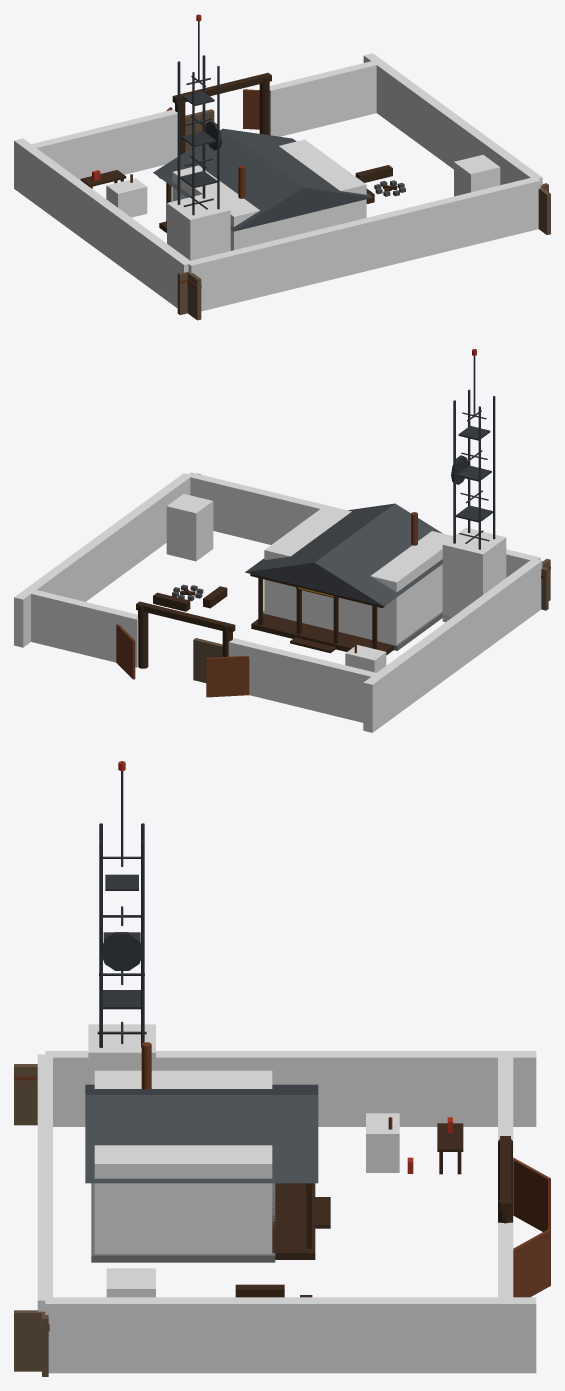
The model's file is relay_hub.glb.
3 renders of one model, top to bottom at view 1: azimuth 30°, elevation 25°; view 2: azimuth 150°, elevation 25°; view 3: azimuth 270°, elevation 25°, orthographic. The views are drawn at different scales.
Parts seen in each view (by area): view 1: COL_BOX_Fence_North, COL_BOX_Fence_West, Cabin_PitchedRoof, COL_BOX_Fence_East, COL_BOX_Fence_South_Left, COL_BOX_Cabin_Building, COL_BOX_Fence_South_Right, COL_BOX_RadioTower, COL_BOX_WaterTank, COL_BOX_Generator, Gate_OverheadLintel, Gate_Wing_Right (+11 smaller); view 2: COL_BOX_Cabin_Building, COL_BOX_Fence_West, Cabin_PitchedRoof, COL_BOX_Fence_East, COL_BOX_Fence_South_Left, COL_BOX_Fence_North, COL_BOX_Fence_South_Right, COL_BOX_RadioTower, COL_BOX_WaterTank, Cabin_PorchDeck, Gate_Wing_Left, Gate_OverheadLintel (+6 smaller); view 3: COL_BOX_Fence_East, COL_BOX_Cabin_Building, COL_BOX_Fence_West, Cabin_PitchedRoof, COL_BOX_Fence_North, Cabin_PorchDeck, COL_BOX_RadioTower, Gate_Wing_Left, Gate_Wing_Right, Cabin_Foundation, COL_BOX_Generator, Fence_East_-9 (+10 smaller).
Part boxes in pixels (x1,y1,x2,y2): COL_BOX_Fence_North: (186,176,540,311); COL_BOX_Fence_West: (14,138,189,308); Cabin_PitchedRoof: (153,128,372,231); COL_BOX_Fence_East: (363,53,542,185); COL_BOX_Fence_South_Left: (27,109,177,179); COL_BOX_Cabin_Building: (172,139,366,250); COL_BOX_Fence_South_Right: (269,60,379,136); COL_BOX_RadioTower: (167,193,230,260); COL_BOX_WaterTank: (454,154,500,196); COL_BOX_Generator: (106,178,147,217); Gate_OverheadLintel: (172,72,271,104); Gate_Wing_Right: (243,89,259,129); COL_BOX_Cabin_Building: (264,505,453,644); COL_BOX_Fence_West: (363,558,542,732); Cabin_PitchedRoof: (245,503,442,606); COL_BOX_Fence_East: (14,473,192,647); COL_BOX_Fence_South_Left: (228,638,379,722); COL_BOX_Fence_North: (188,472,540,577); COL_BOX_Fence_South_Right: (27,589,138,667); COL_BOX_RadioTower: (442,527,506,622); COL_BOX_WaterTank: (166,494,213,561); Cabin_PorchDeck: (251,614,393,655); Gate_Wing_Left: (206,656,249,697); Gate_OverheadLintel: (136,601,235,633); COL_BOX_Fence_East: (45,1297,536,1373); COL_BOX_Cabin_Building: (94,1070,272,1254); COL_BOX_Fence_West: (45,1051,536,1126); Cabin_PitchedRoof: (85,1084,318,1183); COL_BOX_Fence_North: (37,1054,52,1311); Cabin_PorchDeck: (272,1183,315,1259); COL_BOX_RadioTower: (88,1024,155,1084); Gate_Wing_Left: (513,1157,550,1231); Gate_Wing_Right: (513,1229,550,1297); Cabin_Foundation: (91,1183,275,1262); COL_BOX_Generator: (366,1113,399,1172); Fence_East_-9: (14,1310,45,1371).
Size of the model in its own units: 20.05 by 13.95 by 17.51.
